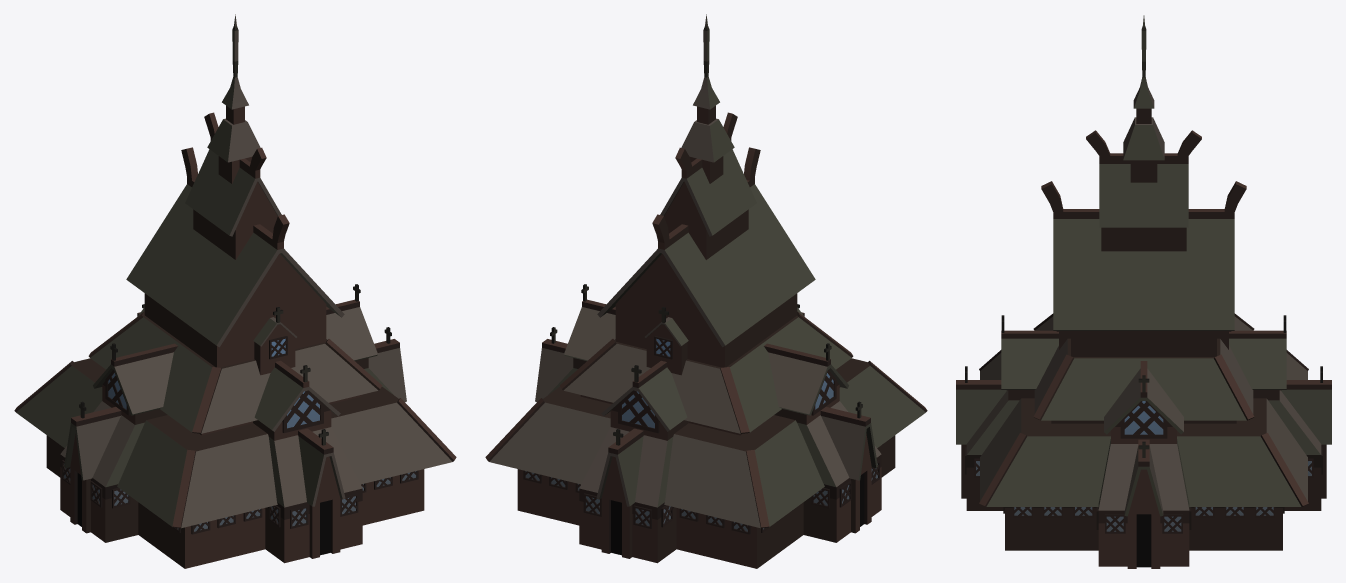
File: buildings-historical-churchold_v1.glb
The picture shows the model from 3 angles, left to right: view 1: azimuth 30°, elevation 25°; view 2: azimuth 150°, elevation 25°; view 3: azimuth 270°, elevation 25°; orthographic projection.
Visible parts, largest first — view 1: ChurchOld_base, ChurchOld_windowRefl; view 2: ChurchOld_base, ChurchOld_windowRefl; view 3: ChurchOld_base, ChurchOld_windowRefl.
Boxes of the visible parts, x1=… form: ChurchOld_base: x1=14, y1=14, x2=456, y2=568; ChurchOld_windowRefl: x1=64, y1=338, x2=416, y2=531; ChurchOld_base: x1=485, y1=14, x2=927, y2=568; ChurchOld_windowRefl: x1=525, y1=338, x2=877, y2=531; ChurchOld_base: x1=956, y1=15, x2=1331, y2=568; ChurchOld_windowRefl: x1=976, y1=401, x2=1311, y2=531.
Bounding box in the file's own units: 18.21 × 25.55 × 18.21.
